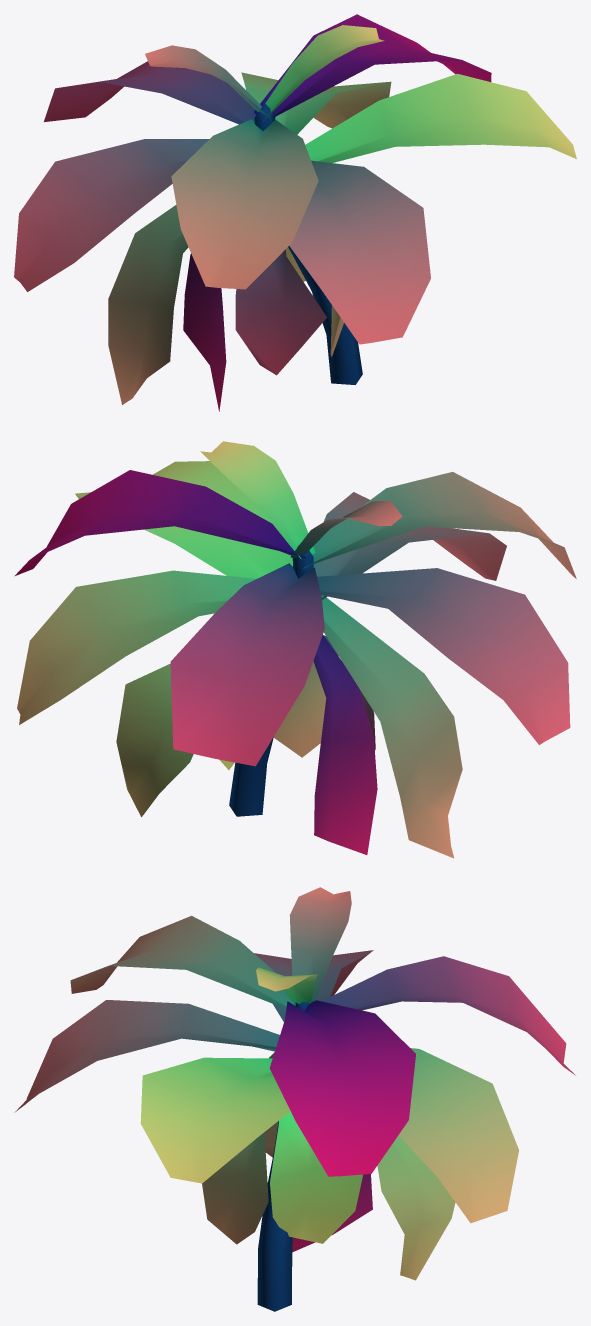
File: sfcnq_VarA_LOD0.fbx
3 renders of one model, top to bottom at view 1: azimuth 30°, elevation 25°; view 2: azimuth 150°, elevation 25°; view 3: azimuth 270°, elevation 25°, orthographic. The views are drawn at different scales.
Parts seen in each view (by area): view 1: _044f_VarA_LOD1; view 2: _044f_VarA_LOD1; view 3: _044f_VarA_LOD1.
Boxes of the visible parts, bbox=[...] form: _044f_VarA_LOD1: bbox=[14, 14, 576, 411]; _044f_VarA_LOD1: bbox=[14, 441, 576, 858]; _044f_VarA_LOD1: bbox=[14, 887, 575, 1311].
Bounding box in the file's own units: 38.04 × 25.08 × 37.16.
